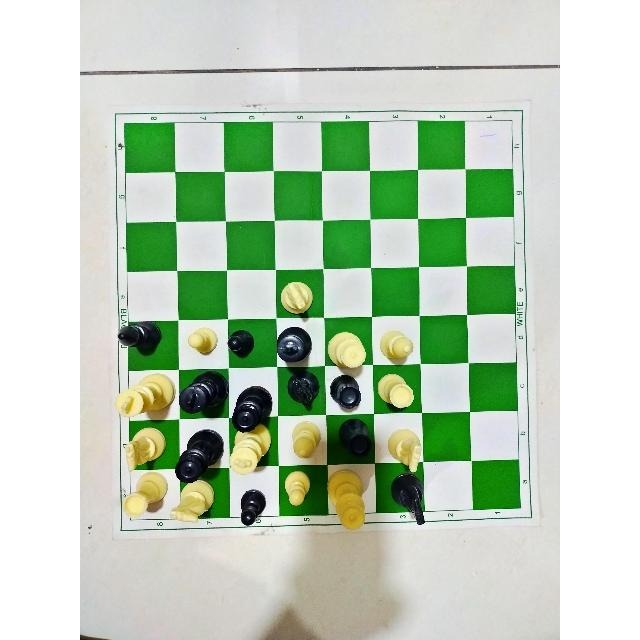black-bishop: (114, 321, 160, 348)
black-king: (179, 371, 229, 415), (275, 329, 313, 363)
black-knight: (391, 477, 427, 526), (287, 368, 321, 409)
black-pawn: (239, 489, 266, 525), (227, 329, 253, 357)
black-queen: (174, 428, 225, 484), (230, 383, 272, 433)
black-rook: (339, 418, 373, 460), (330, 375, 362, 409)
white-bishop: (290, 421, 321, 461), (380, 332, 414, 360)
white-king: (116, 374, 171, 419), (230, 428, 270, 476)
white-knight: (123, 426, 167, 473), (169, 480, 215, 524), (387, 428, 423, 474), (279, 278, 318, 315)
white-pawn: (283, 469, 310, 506), (186, 329, 217, 355)
white-queen: (326, 469, 366, 530), (327, 331, 369, 371)
white-rook: (121, 472, 168, 520), (377, 373, 417, 411)
